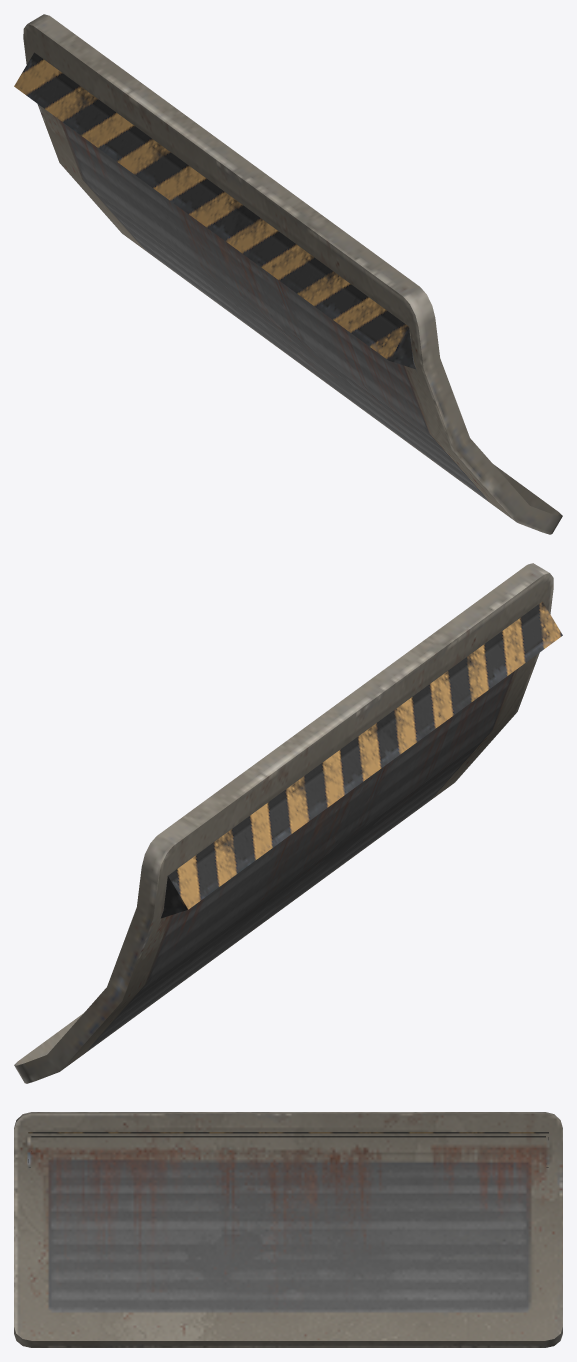
File: CP_Canopy_Industrial_Ventilation.fbx
3 renders of one model, top to bottom at view 1: azimuth 30°, elevation 25°; view 2: azimuth 150°, elevation 25°; view 3: azimuth 270°, elevation 25°, orthographic. The views are drawn at different scales.
Parts seen in each view (by area): view 1: CP_Canopy_Industrial_Ventilation; view 2: CP_Canopy_Industrial_Ventilation; view 3: CP_Canopy_Industrial_Ventilation.
Part boxes in pixels (x1,y1,x2,y2): CP_Canopy_Industrial_Ventilation: (14,14,562,534); CP_Canopy_Industrial_Ventilation: (14,563,562,1083); CP_Canopy_Industrial_Ventilation: (14,1112,562,1347).
Bounding box in the file's own units: 35.27 × 53.61 × 140.
